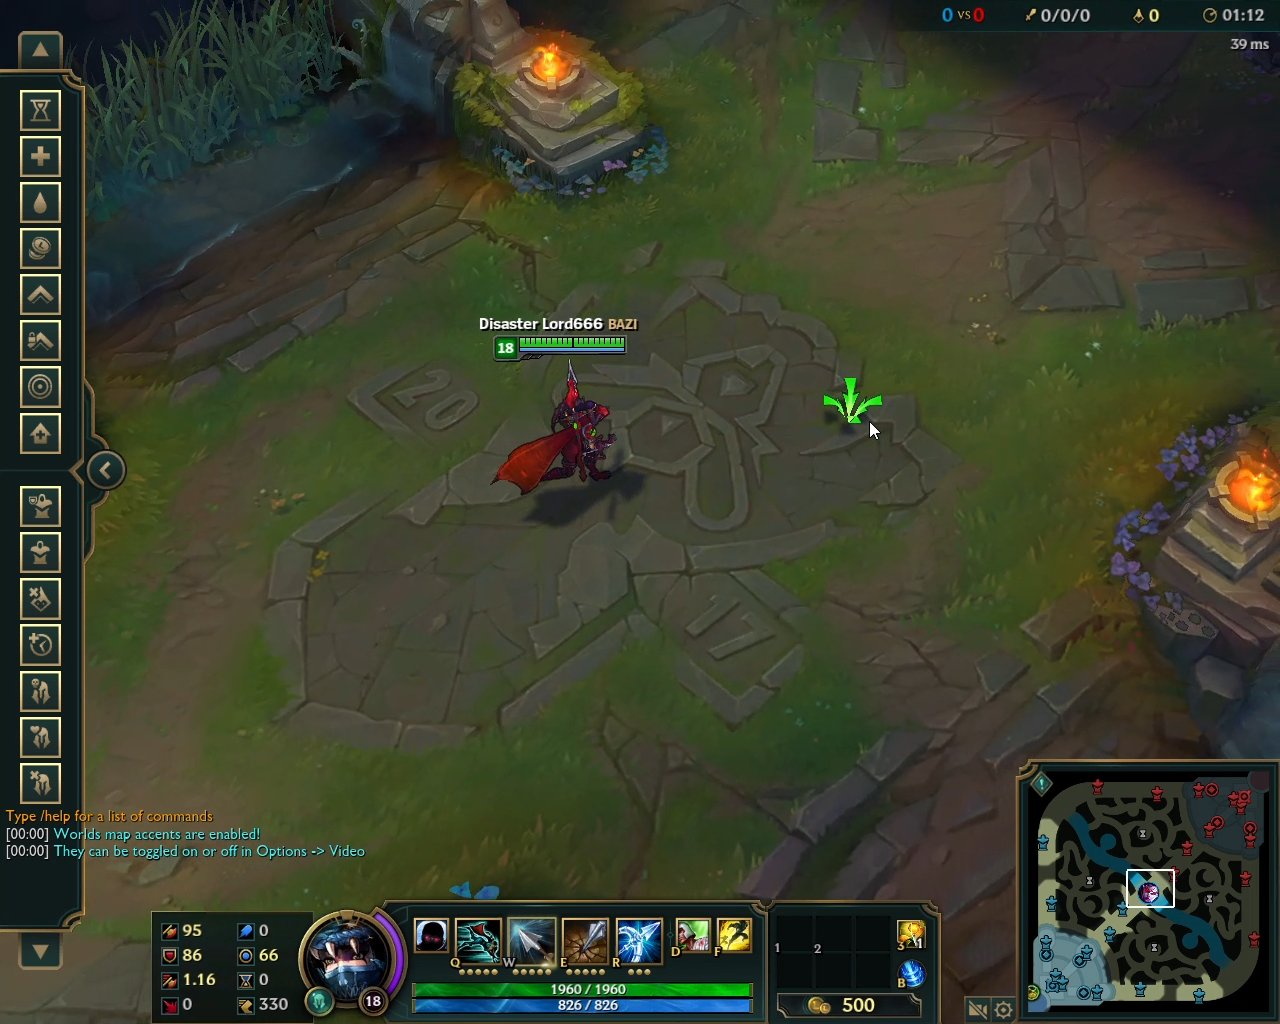Vayne: (486, 357, 623, 501)
